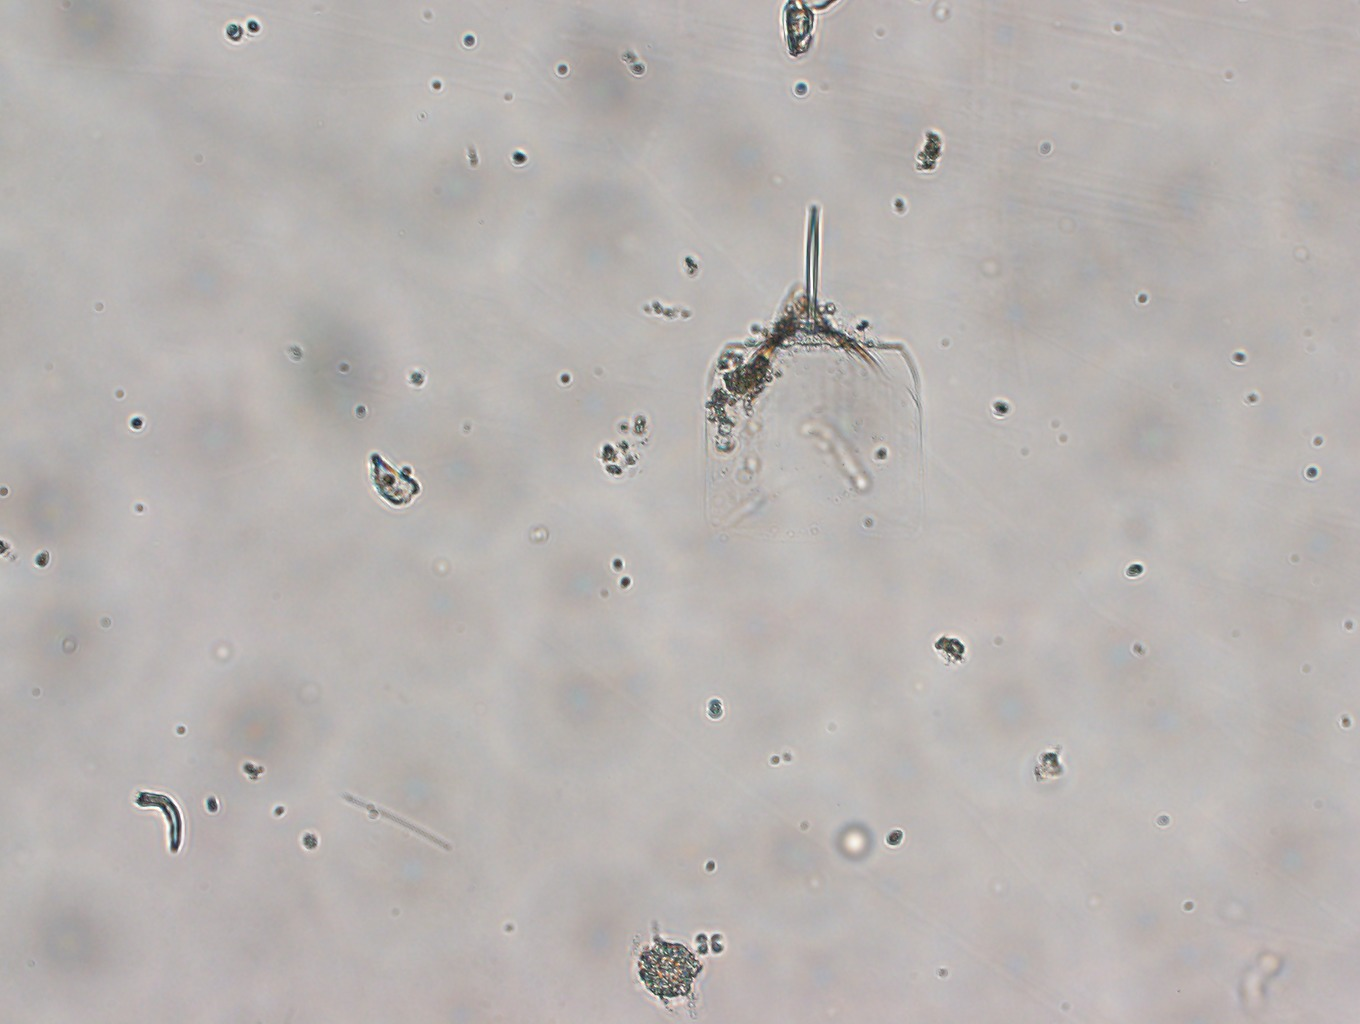ditylum: (689, 189, 941, 524)
